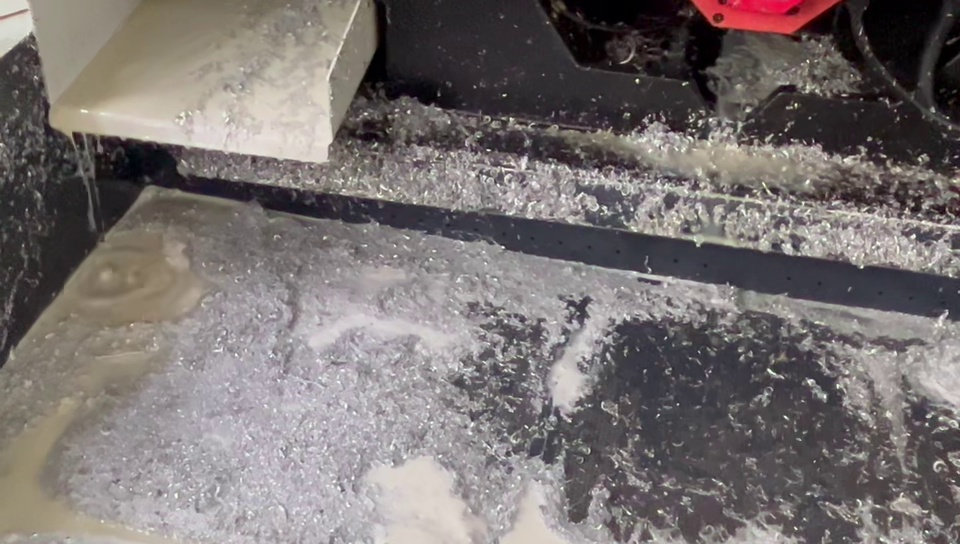iron_scrap: (68, 392, 382, 542), (305, 229, 534, 385), (349, 101, 581, 220), (757, 154, 925, 270), (199, 211, 298, 390), (537, 263, 593, 401), (393, 398, 521, 452), (456, 458, 525, 528)
